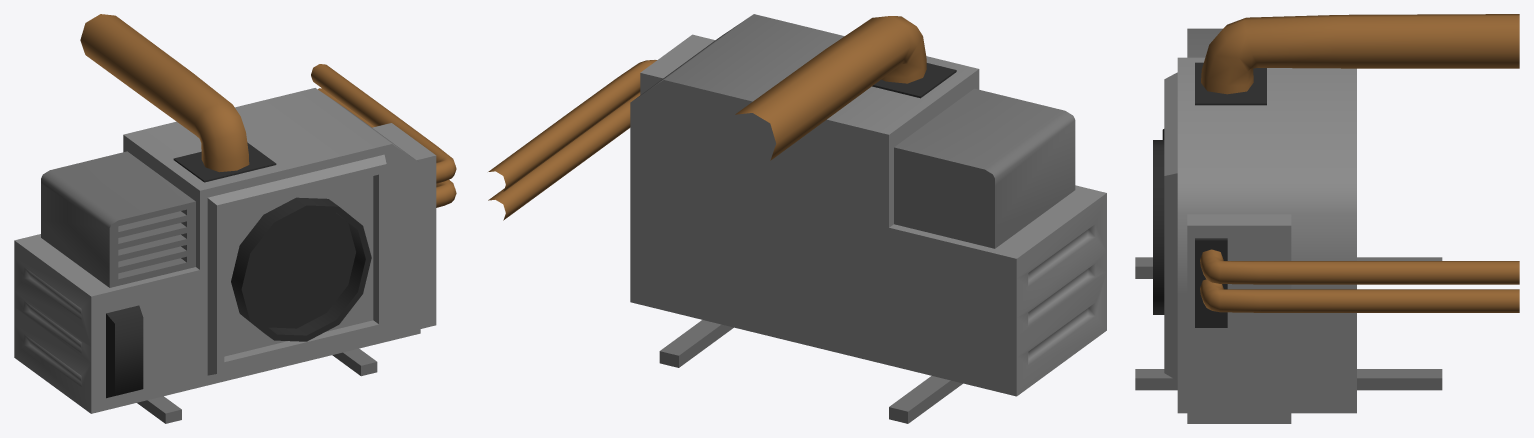
The model's file is quaternius-cyberpunk-ac.glb.
The picture shows the model from 3 angles, left to right: view 1: azimuth 30°, elevation 25°; view 2: azimuth 150°, elevation 25°; view 3: azimuth 270°, elevation 25°; orthographic projection. The views are drawn at different scales.
Parts seen in each view (by area): view 1: AC; view 2: AC; view 3: AC.
Boxes of the visible parts, x1,y1,x2,y2 form: AC: (14,14,456,423); AC: (488,14,1106,423); AC: (1135,14,1519,423).
Size of the model in its own units: 1.04 by 0.6856 by 0.7709.
